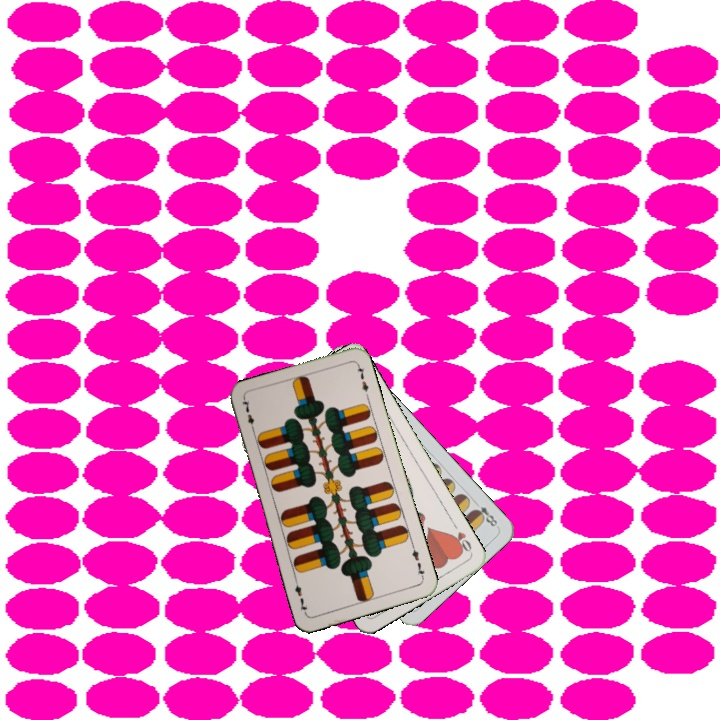E7: (408, 541, 427, 581), (238, 395, 257, 435)
E8: (469, 497, 500, 529)
HO: (447, 519, 474, 556)
